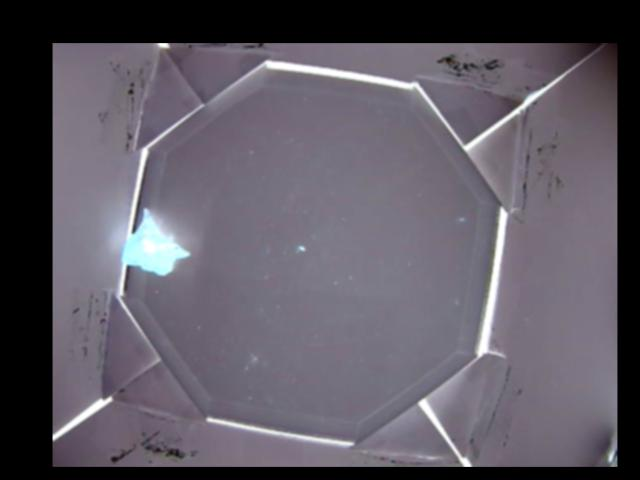Brisk: (120, 206, 188, 275)
